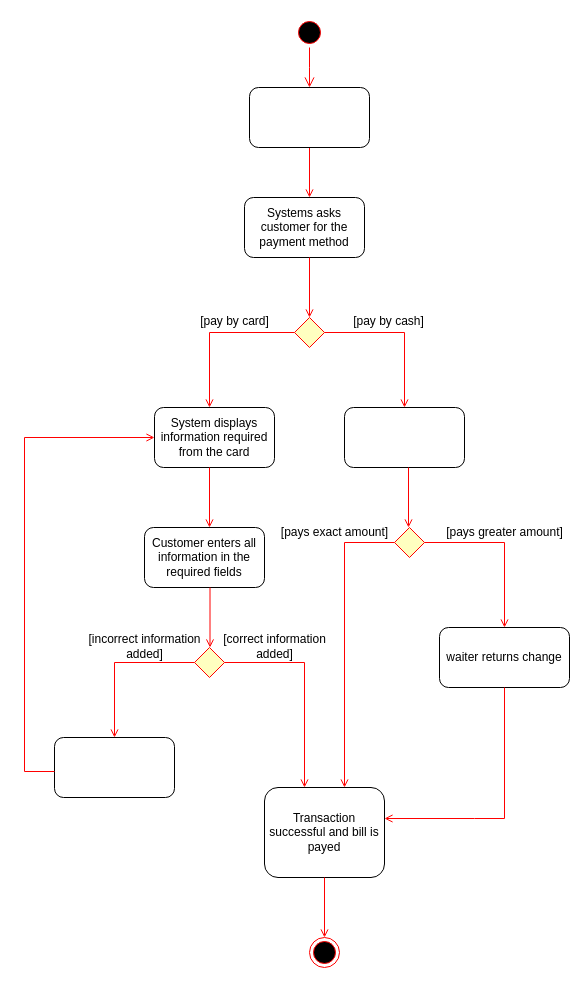
Image size: 587x985. Some labels were removed from this diagram. The centre of each missing label's shape, as x and y in pixels:
"customer gives cash to waiter" goes at point 404,437.
"Display bill to the customer" goes at point 309,117.
"System displays error message and transaction fails" goes at point 114,767.
